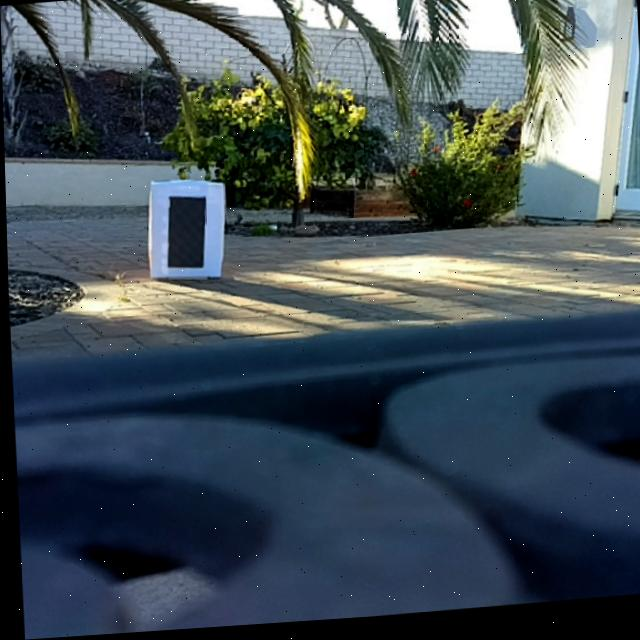led: (163, 195, 207, 271)
